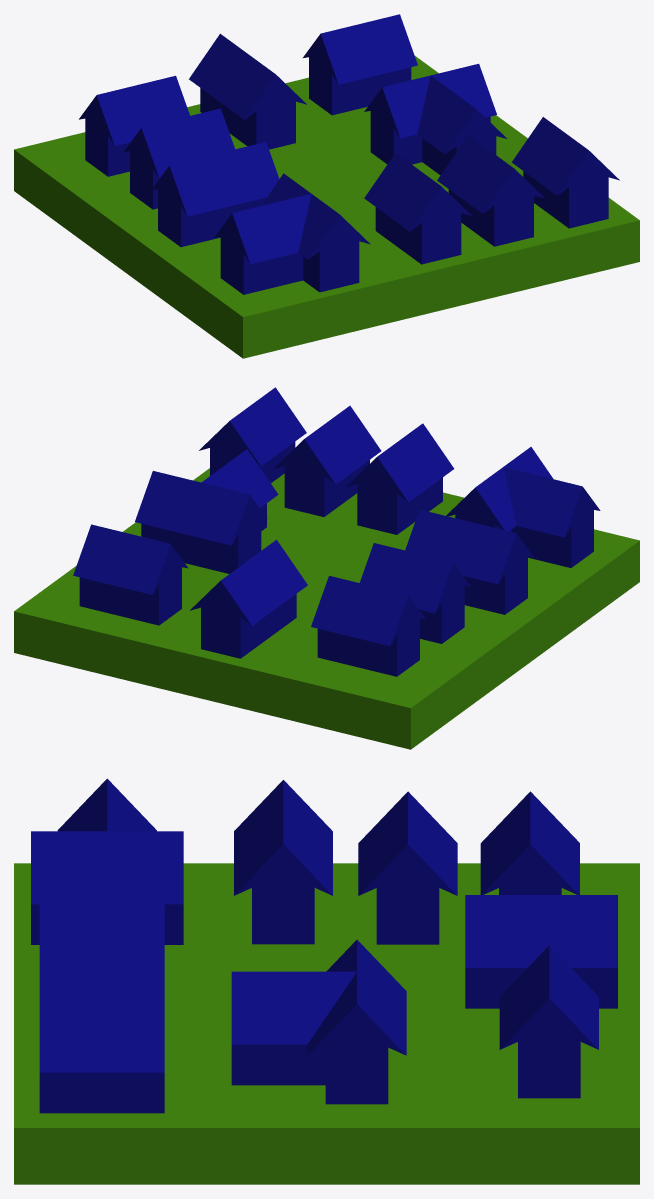
File: House1.obj
3 views of the same model, one above another, from view 1: azimuth 30°, elevation 25°; view 2: azimuth 150°, elevation 25°; view 3: azimuth 270°, elevation 25° (orthographic). The views are drawn at different scales.
Visible parts, largest first — view 1: Tilebase103, Box659, Box651, Box654, Box649, Box657, Box655, Box650, Box660, Box652, Box658, Box656 (+1 smaller); view 2: Tilebase103, Box652, Box660, Box651, Box654, Box659, Box649, Box650, Box657, Box658, Box655, Box656 (+1 smaller); view 3: Tilebase103, Box655, Box654, Box656, Box659, Box653, Box658, Box651, Box652, Box660, Box650, Box649 (+1 smaller).
Part boxes in pixels (x1,y1,x2,y2): Tilebase103: (14,56,639,358); Box659: (151,142,279,247); Box651: (303,14,417,115); Box654: (189,33,306,149); Box649: (364,153,471,264); Box657: (214,194,311,294); Box655: (511,117,619,228); Box650: (437,135,544,246); Box660: (79,75,189,176); Box652: (364,63,496,164); Box658: (124,108,234,209); Box656: (261,173,370,292); Tilebase103: (14,468,639,749); Box652: (135,471,267,573); Box660: (311,575,426,676); Box651: (73,524,188,625); Box654: (190,539,307,658); Box659: (405,509,534,614); Box649: (346,423,454,534); Box650: (273,405,381,516); Box657: (503,467,600,567); Box658: (359,543,470,643); Box655: (199,387,306,482); Box656: (446,447,553,531); Tilebase103: (14,863,639,1184); Box655: (39,999,164,1113); Box654: (465,895,617,1008); Box656: (31,831,183,944); Box659: (234,780,332,944); Box653: (231,971,356,1085); Box658: (358,791,457,944); Box651: (499,945,598,1098); Box652: (307,939,406,1104); Box660: (480,791,579,894); Box650: (39,950,164,999); Box649: (39,901,164,949).
Size of the model in its own units: 10 by 2.77 by 10.
